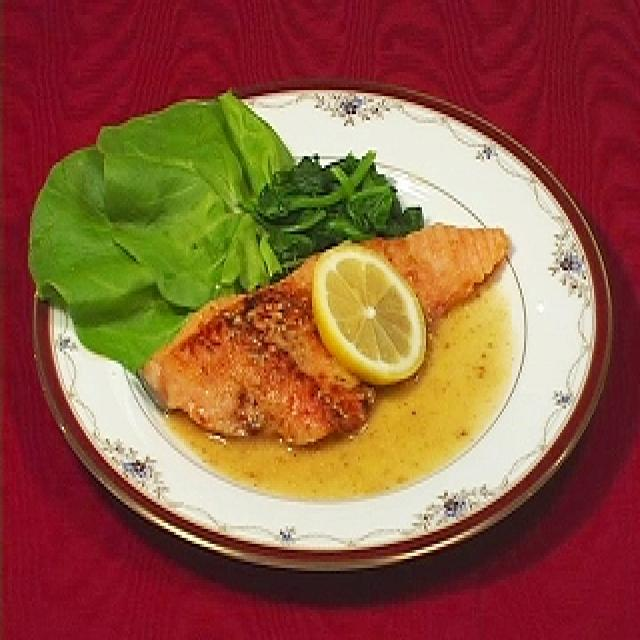熟制海鲜: (136, 153, 516, 457)
